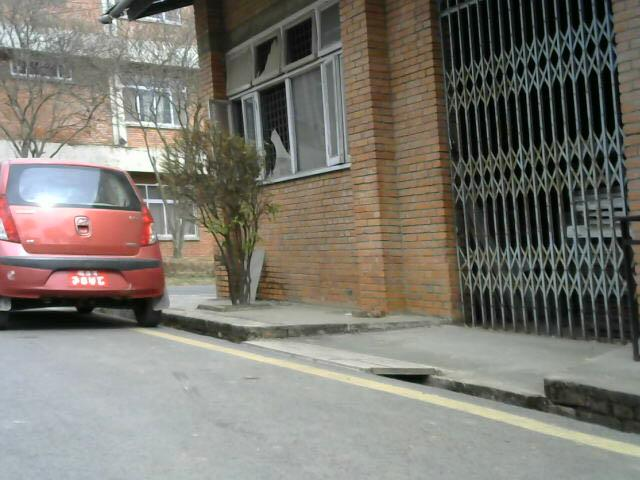Building: (169, 5, 640, 358)
Car: (0, 167, 158, 326)
Tree: (169, 114, 281, 312)
